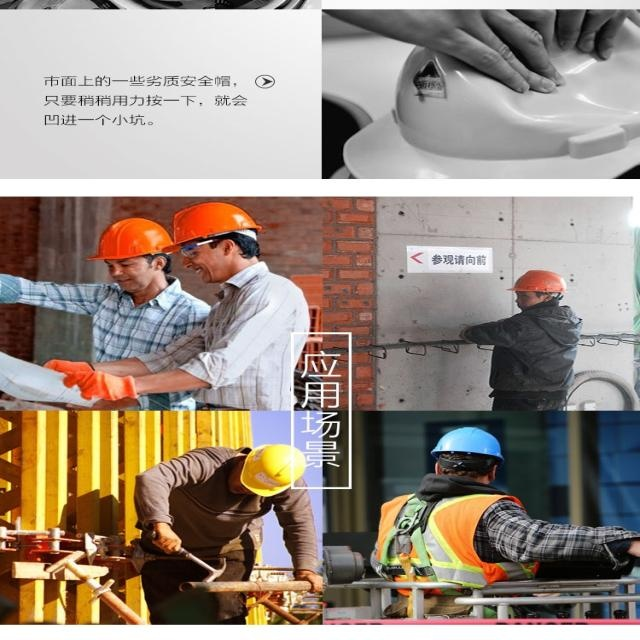Con_Chaleco: (371, 486, 519, 575)
